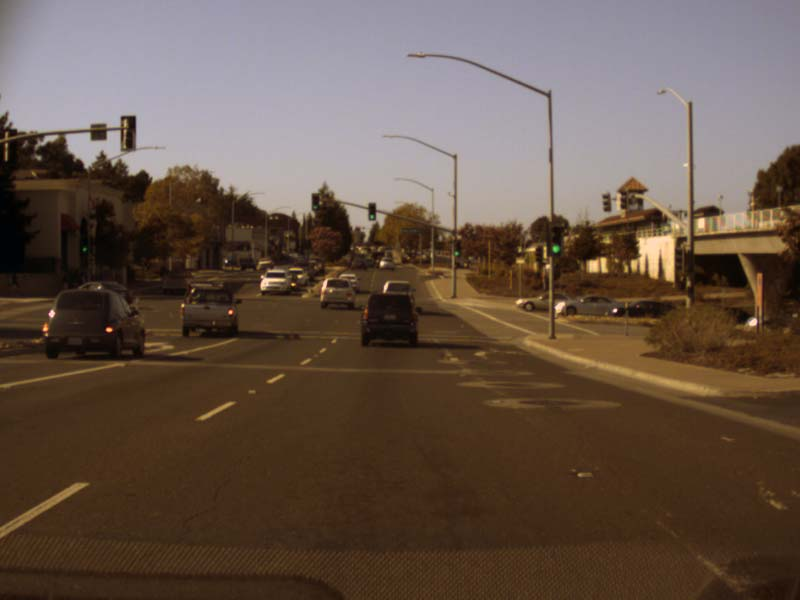Green: (549, 224, 561, 255), (80, 236, 88, 253), (368, 202, 375, 220), (312, 193, 318, 210), (453, 240, 459, 256)
